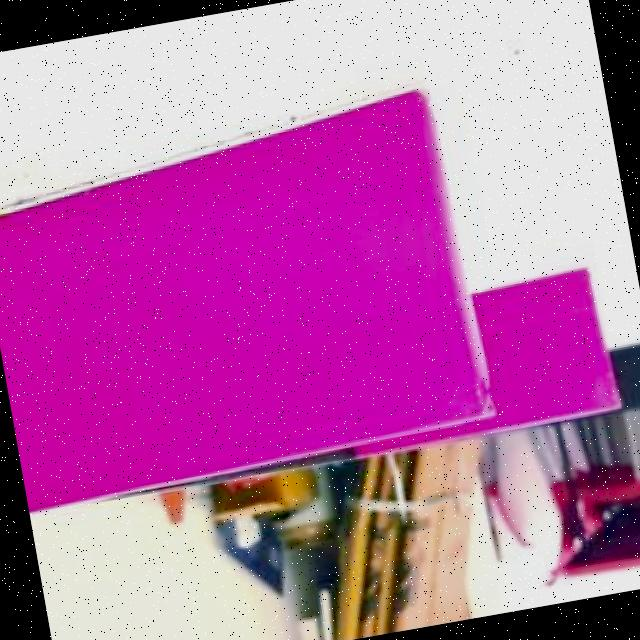xparking: (0, 109, 491, 497), (476, 261, 624, 432)
